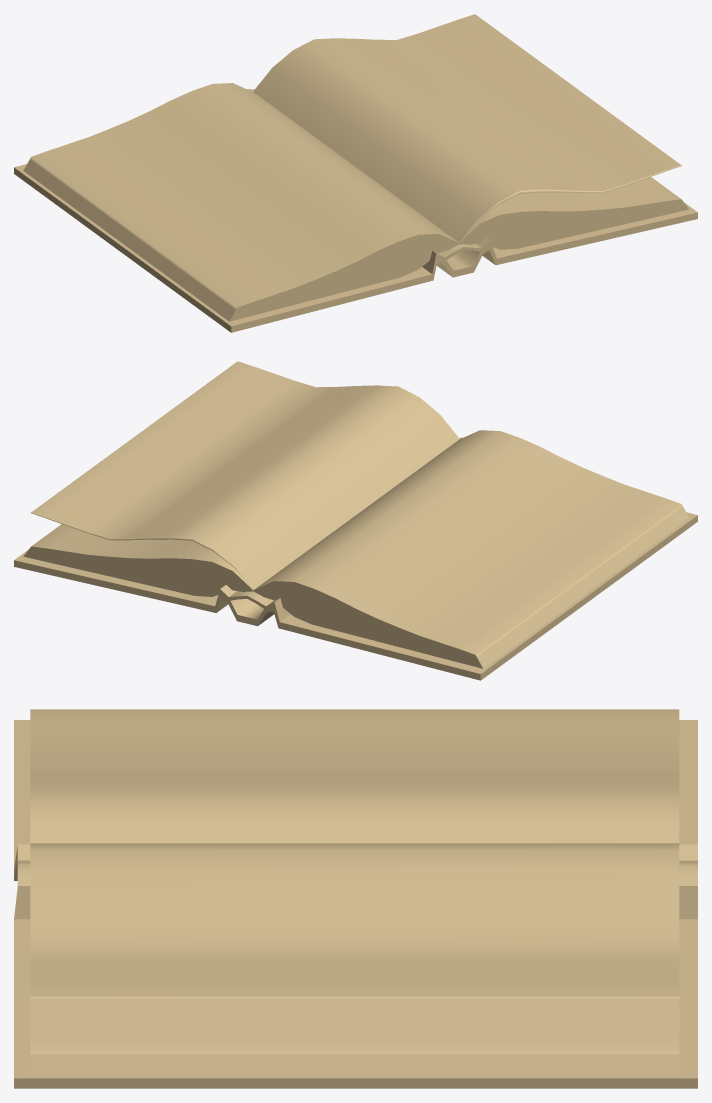
Rendered from booky.gltf.
3 renders of one model, top to bottom at view 1: azimuth 30°, elevation 25°; view 2: azimuth 150°, elevation 25°; view 3: azimuth 270°, elevation 25°, orthographic. The views are drawn at different scales.
Parts seen in each view (by area): view 1: Object_2; view 2: Object_2; view 3: Object_2.
Part boxes in pixels (x1,y1,x2,y2): Object_2: (14, 14, 697, 332); Object_2: (14, 361, 697, 680); Object_2: (14, 709, 697, 1088).
Size of the model in its own units: 21.15 by 2.99 by 17.05.
